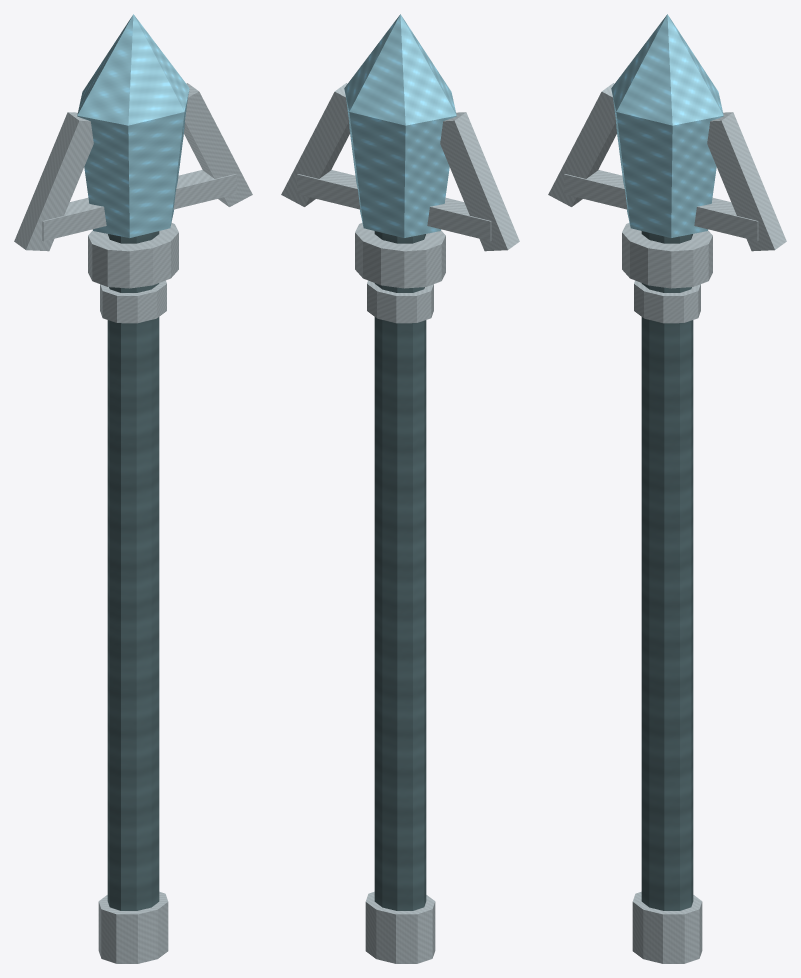
Rendered from underworld-weapon-icebind-staff.glb.
3 views of the same model, side by side, from view 1: azimuth 30°, elevation 25°; view 2: azimuth 150°, elevation 25°; view 3: azimuth 330°, elevation 25° (orthographic).
Visible parts, largest first — view 1: shaft, crystal-focus, left-tine, crown-band, pommel, crossbar, right-tine, neck-band; view 2: shaft, crystal-focus, left-tine, crown-band, pommel, crossbar, right-tine, neck-band; view 3: shaft, crystal-focus, right-tine, crown-band, pommel, crossbar, left-tine, neck-band.
Boxes of the visible parts, x1,y1,x2,y2 form: shaft: (107, 231, 159, 910); crystal-focus: (77, 14, 189, 237); left-tine: (14, 112, 93, 251); crown-band: (88, 222, 178, 288); pommel: (98, 891, 168, 963); crossbar: (42, 170, 236, 241); right-tine: (184, 83, 252, 206); neck-band: (100, 280, 166, 323); shaft: (374, 231, 426, 910); crystal-focus: (344, 14, 456, 237); left-tine: (440, 112, 519, 251); crown-band: (355, 222, 445, 288); pommel: (365, 891, 435, 963); crossbar: (297, 170, 491, 241); right-tine: (281, 83, 349, 206); neck-band: (367, 280, 433, 323); shaft: (641, 231, 693, 910); crystal-focus: (611, 14, 723, 237); right-tine: (707, 112, 786, 251); crown-band: (622, 222, 712, 288); pommel: (632, 891, 702, 963); crossbar: (564, 170, 758, 241); left-tine: (548, 83, 616, 206); neck-band: (634, 280, 700, 323).
Bounding box in the file's own units: 0.4795 × 1.89 × 0.1684.
Materials: 3 (3 with a texture image).
